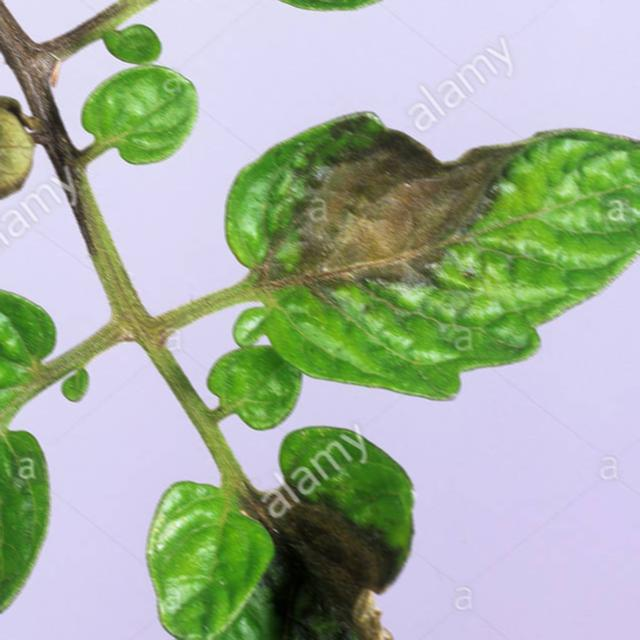Tomato leaf late blight: (212, 108, 640, 434), (132, 408, 523, 640), (0, 266, 85, 640), (74, 0, 593, 20)
